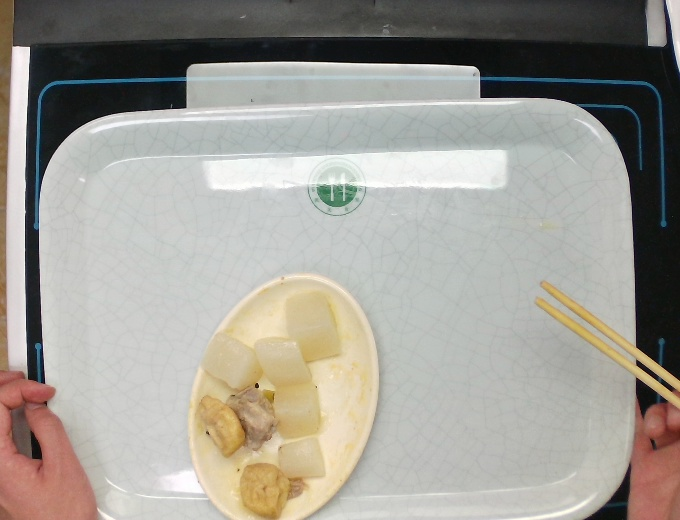JYsf-Tuo_Yuan_Wan: (183, 267, 387, 520)
